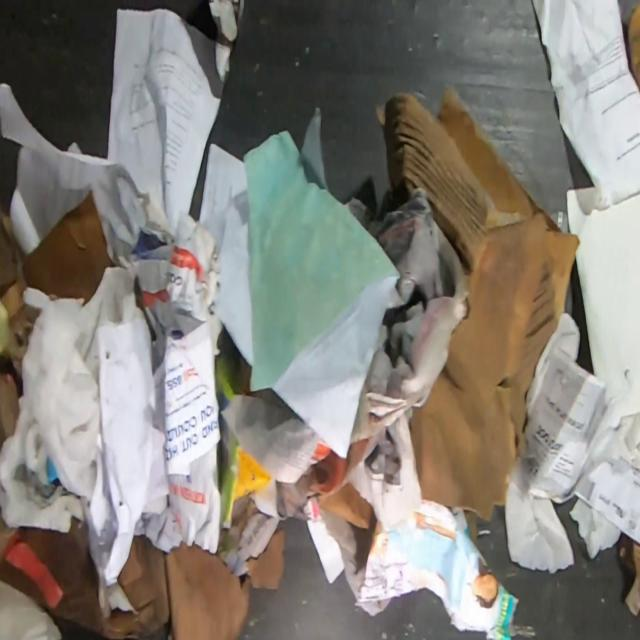cardboard: (381, 82, 582, 523), (0, 513, 169, 638), (318, 481, 372, 529), (0, 371, 18, 448), (625, 541, 640, 616), (628, 0, 639, 88)
